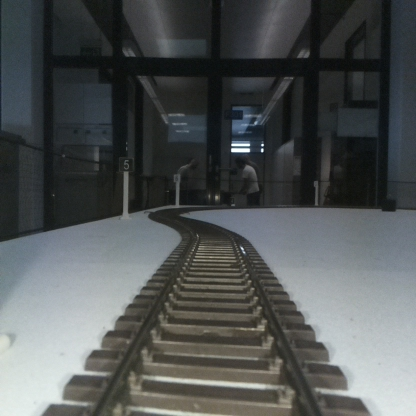black-info-5: (119, 157, 133, 218)
